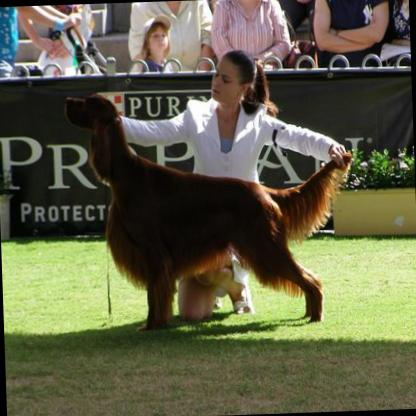Irish_setter: (61, 84, 355, 334)
